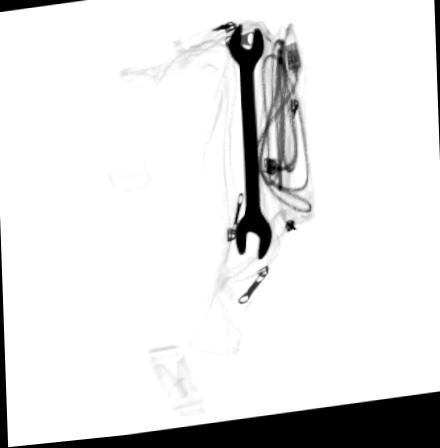Wrench: (224, 27, 272, 265)
